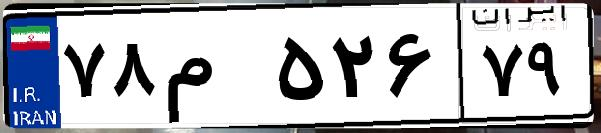2: (330, 28, 385, 110)
5: (270, 28, 330, 110)
6: (385, 28, 445, 110)
7: (57, 26, 110, 100), (475, 38, 525, 113)
8: (110, 28, 158, 98)
9: (525, 38, 570, 115)
م: (158, 20, 270, 120)
